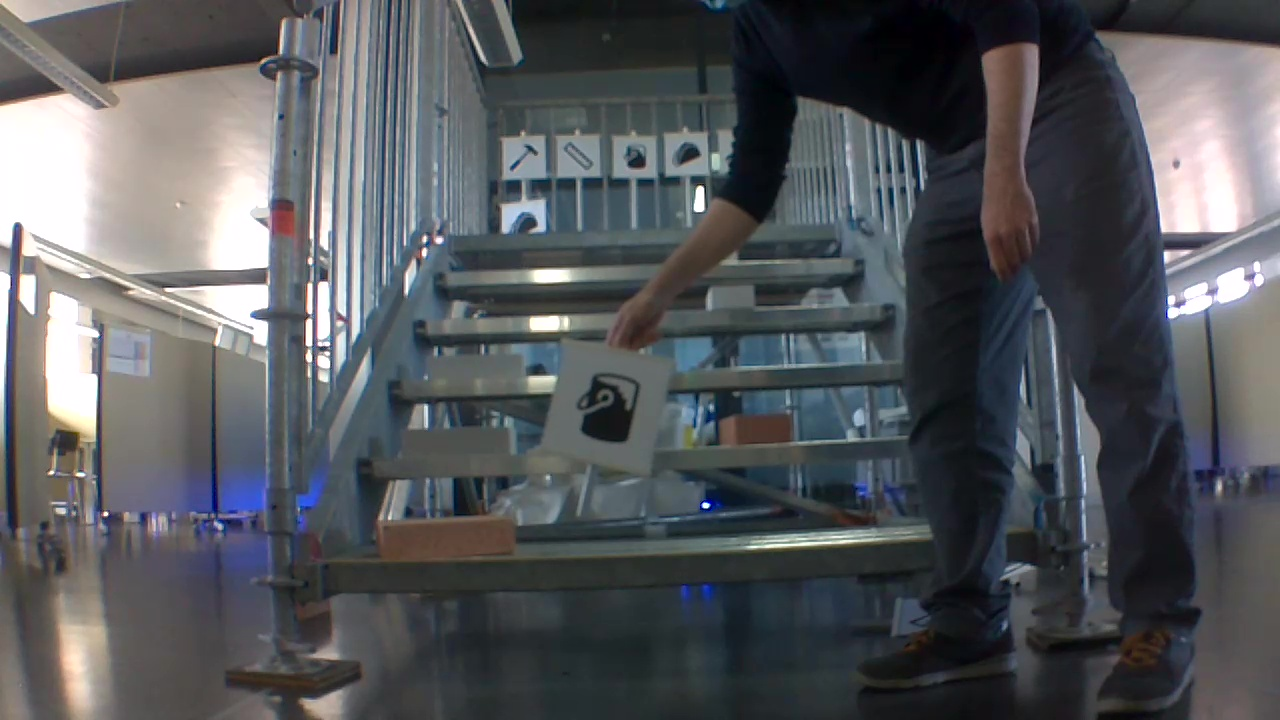brick: (376, 518, 512, 558), (403, 425, 513, 458), (427, 354, 524, 383), (718, 415, 788, 447), (709, 286, 751, 309)
bucket: (560, 368, 646, 447), (617, 142, 649, 171)
edge: (330, 529, 1037, 591)
hammer: (503, 140, 539, 174)
ruler: (556, 139, 596, 173)
taco: (669, 139, 704, 171), (507, 207, 543, 234)
